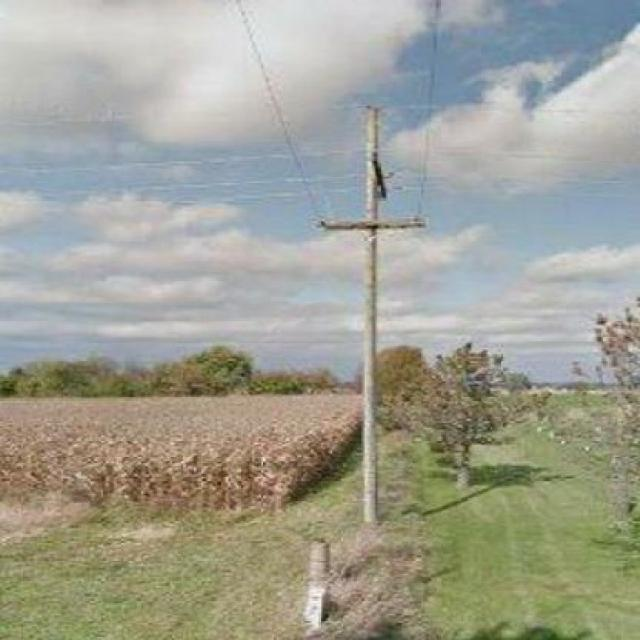pole: (316, 103, 429, 529)
